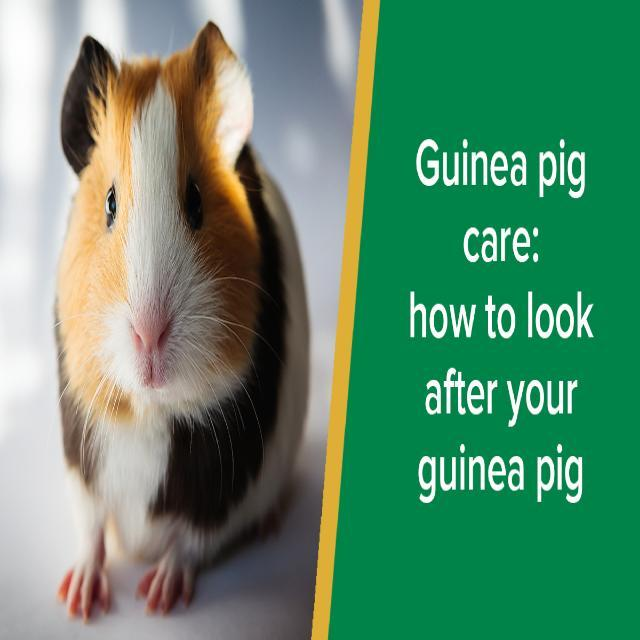Guinea Pig: (51, 19, 312, 623)
